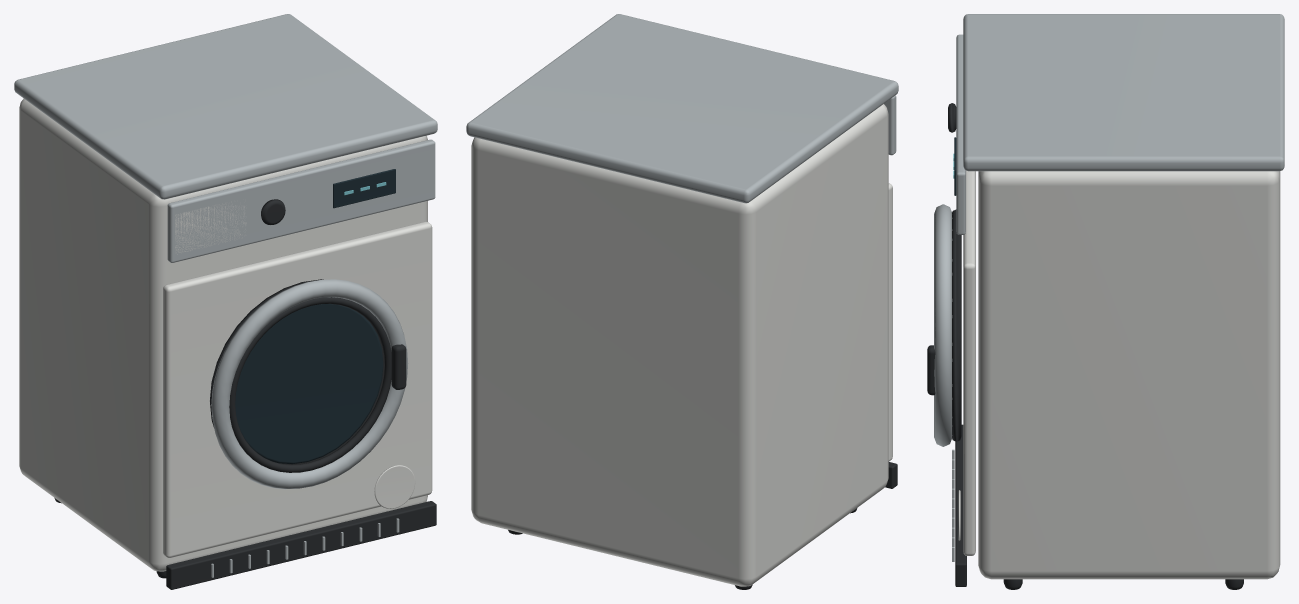
File: washing_machine.glb
The picture shows the model from 3 angles, left to right: view 1: azimuth 30°, elevation 25°; view 2: azimuth 150°, elevation 25°; view 3: azimuth 270°, elevation 25°; orthographic projection. The views are drawn at different scales.
Parts seen in each view (by area): view 1: 家具_washing_machine; view 2: 家具_washing_machine; view 3: 家具_washing_machine.
Part boxes in pixels (x1=…): 家具_washing_machine: x1=14, y1=14, x2=437, y2=589; 家具_washing_machine: x1=466, y1=14, x2=898, y2=589; 家具_washing_machine: x1=927, y1=14, x2=1284, y2=589.
Bounding box in the file's own units: 0.6 × 0.85 × 0.62.
